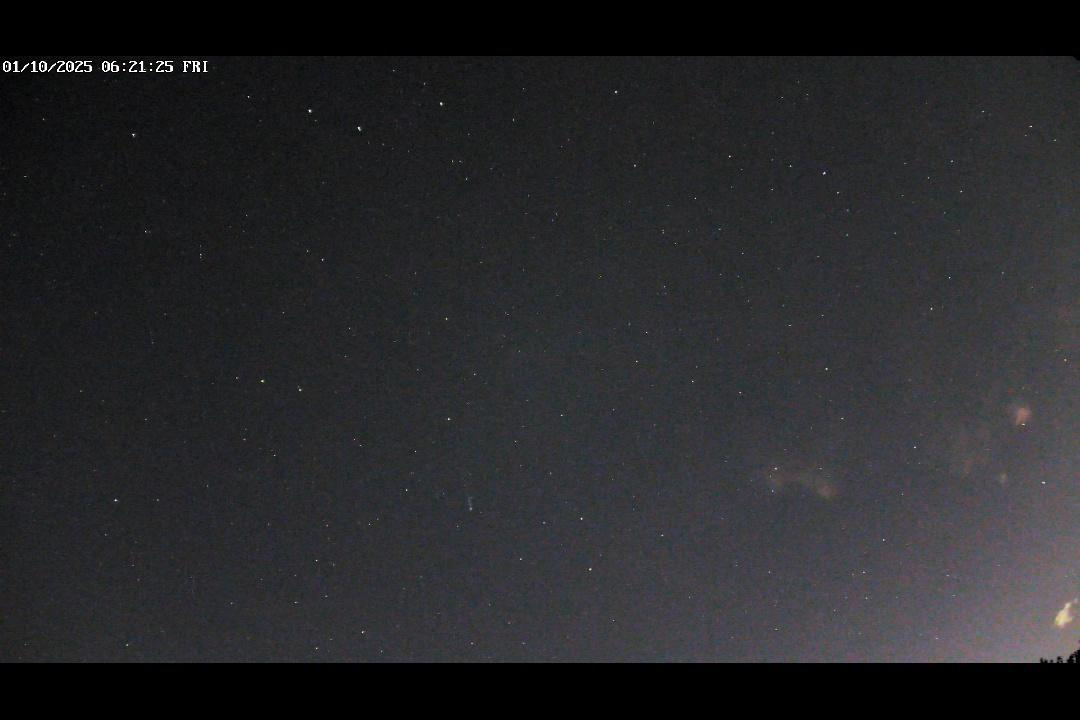Plane: (458, 479, 477, 514)
